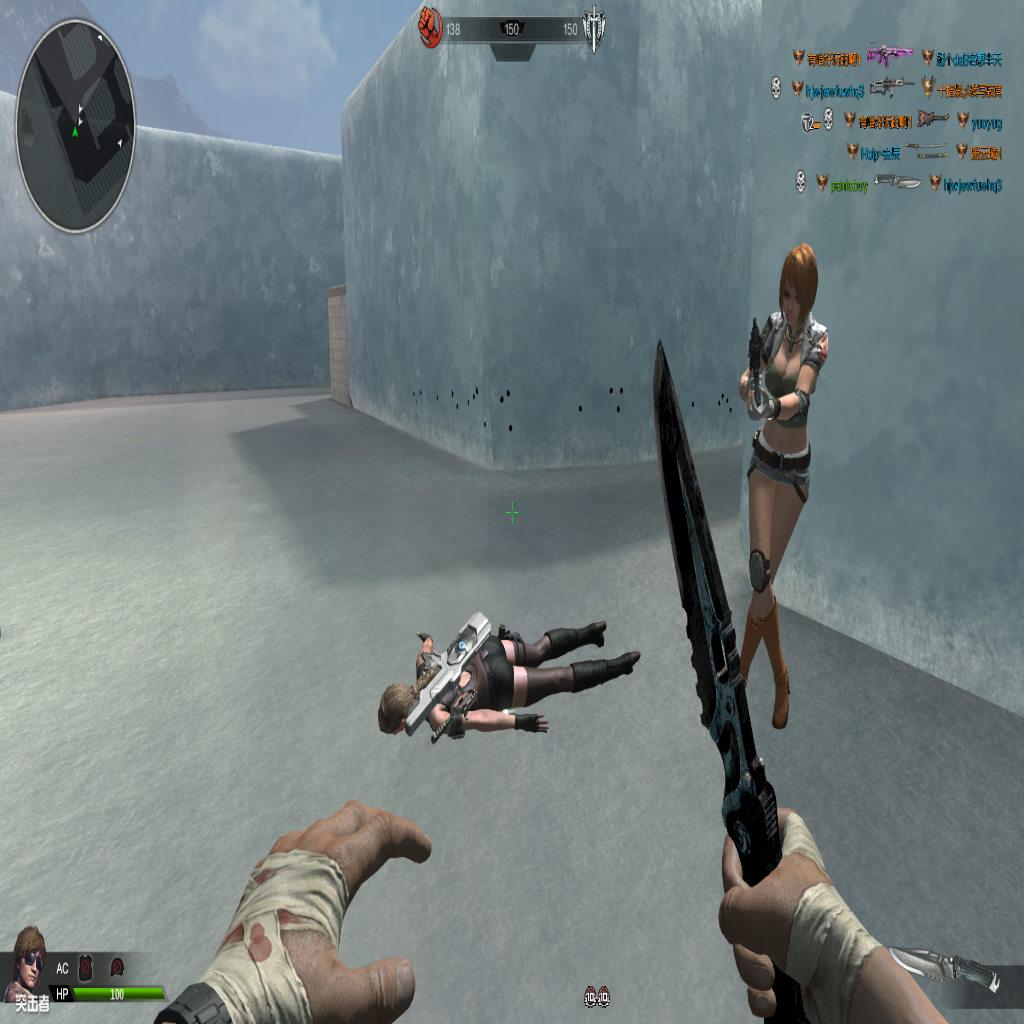tt: (734, 237, 828, 723)
